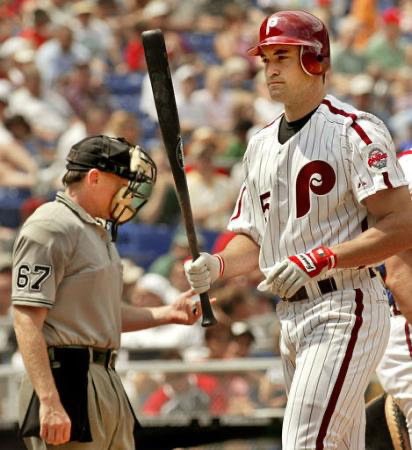Face: (255, 40, 303, 103)
